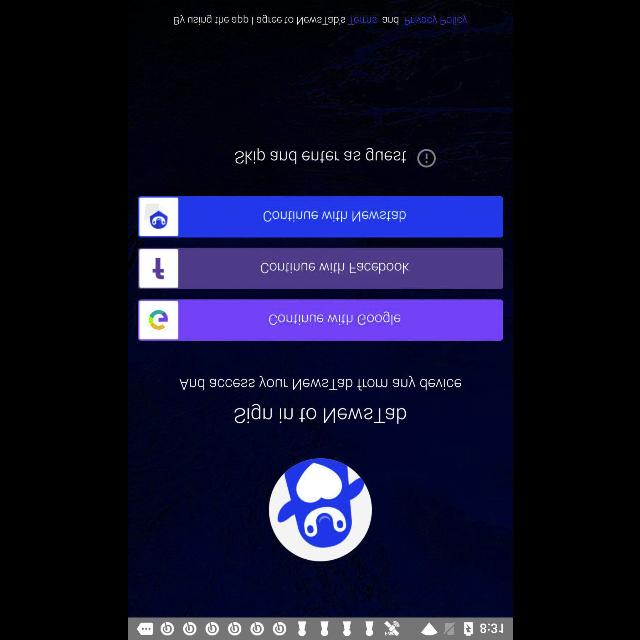icon: (416, 148, 436, 168)
image: (268, 457, 372, 561)
text: (178, 375, 460, 391), (171, 15, 469, 28), (232, 402, 406, 423), (234, 148, 406, 164)
textbutton: (138, 299, 502, 341), (138, 247, 502, 289), (138, 196, 502, 238)
uppertaskbar: (128, 617, 512, 639)
